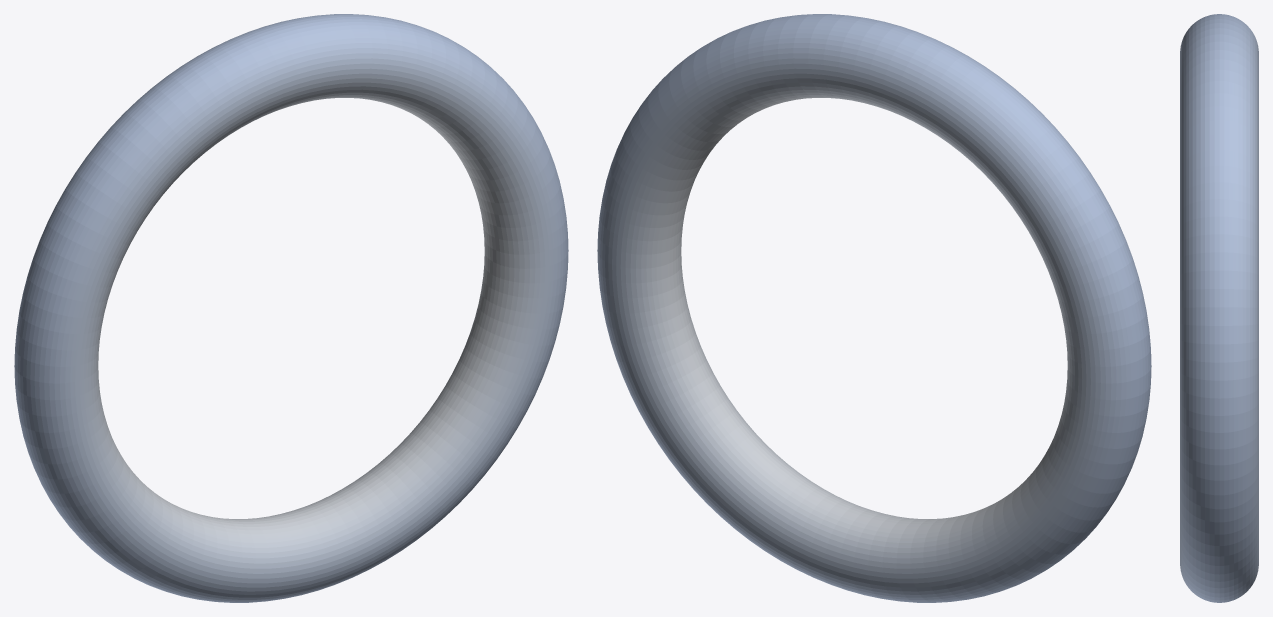
3 renders of one model, left to right at view 1: azimuth 30°, elevation 25°; view 2: azimuth 150°, elevation 25°; view 3: azimuth 270°, elevation 25°, orthographic. The views are drawn at different scales.
Parts seen in each view (by area): view 1: world; view 2: world; view 3: world.
Boxes of the visible parts, left/top/right/bottom form: world: left=14, top=14, right=568, bottom=602; world: left=597, top=14, right=1151, bottom=602; world: left=1180, top=14, right=1258, bottom=602.
Bounding box in the file's own units: 16.93 × 16.93 × 2.26.
